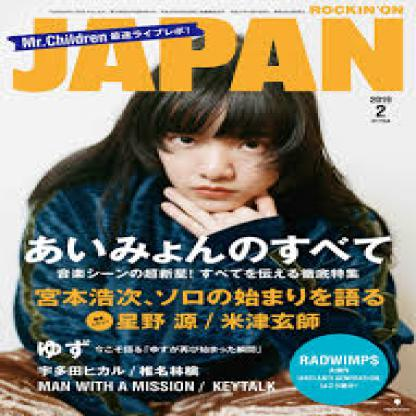paper: (0, 1, 414, 414)
